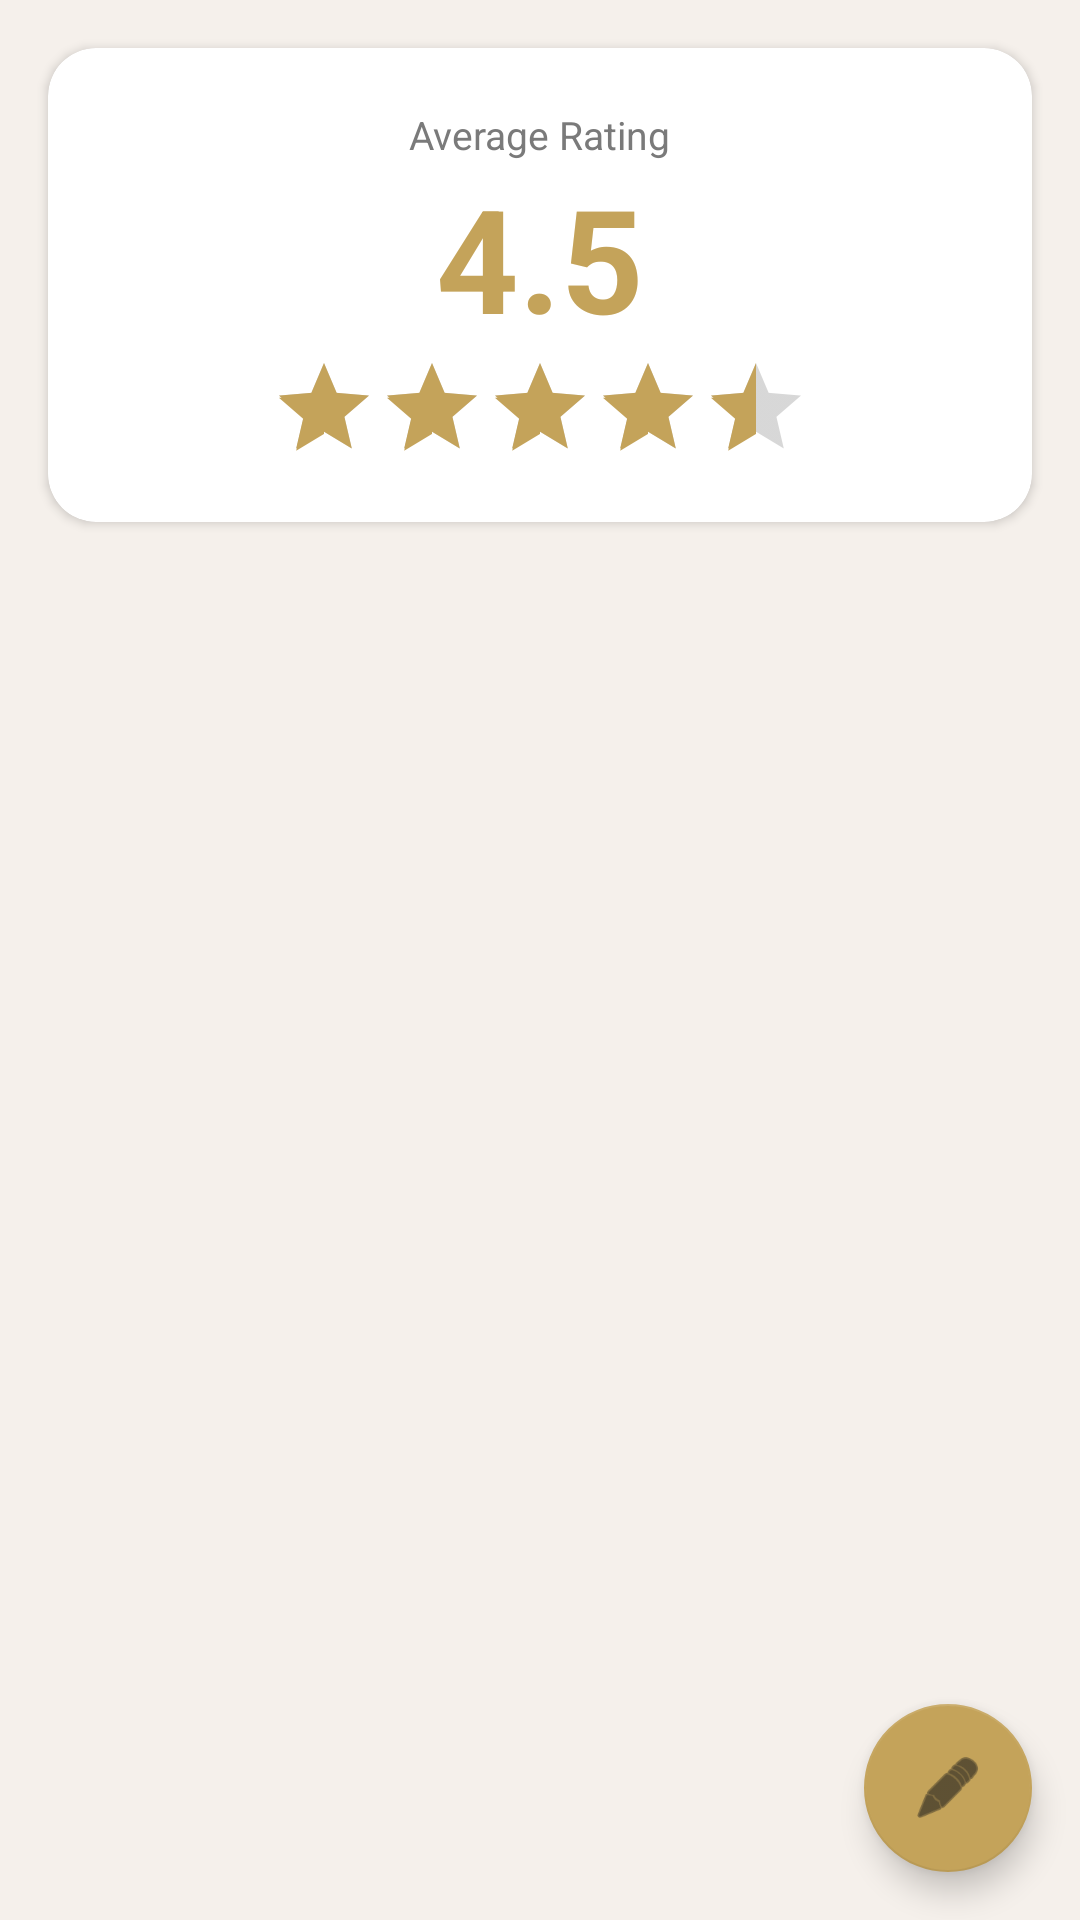

Icons on this 1080x1920 Android screen, each with the point to tap as point (x, y):
Write Review: point (948, 1788)
